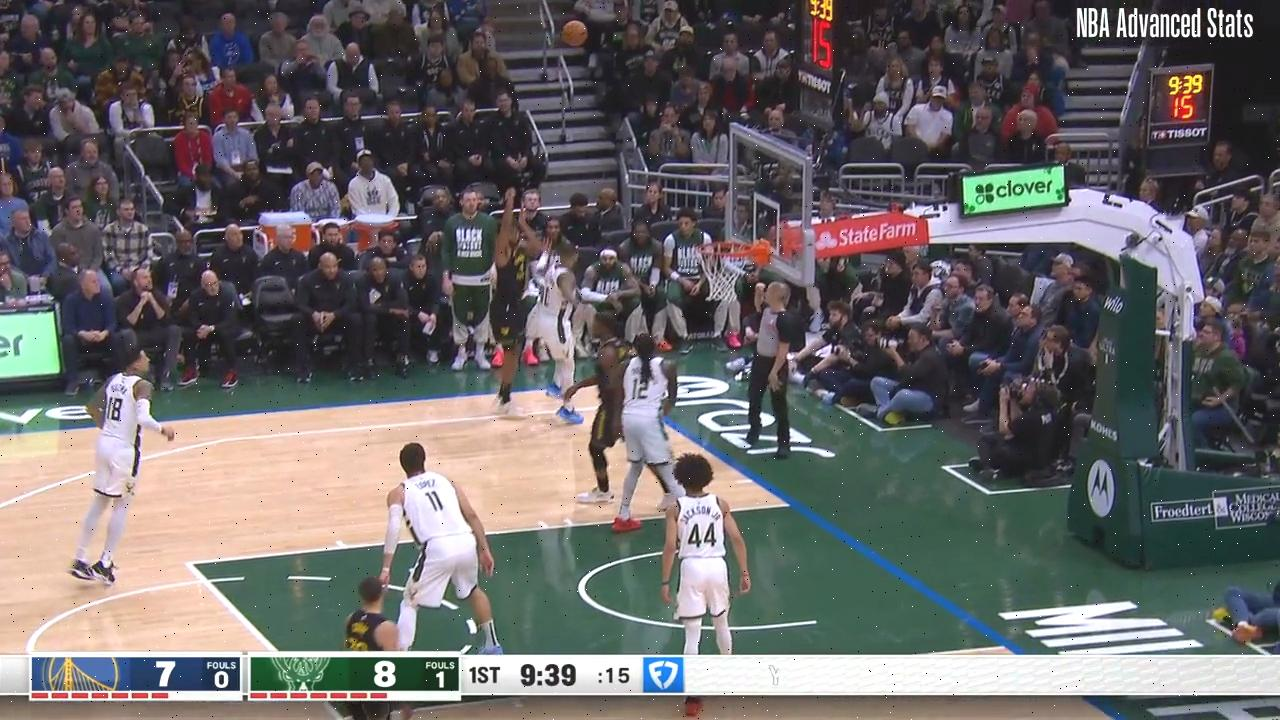basketball: (558, 19, 591, 49)
